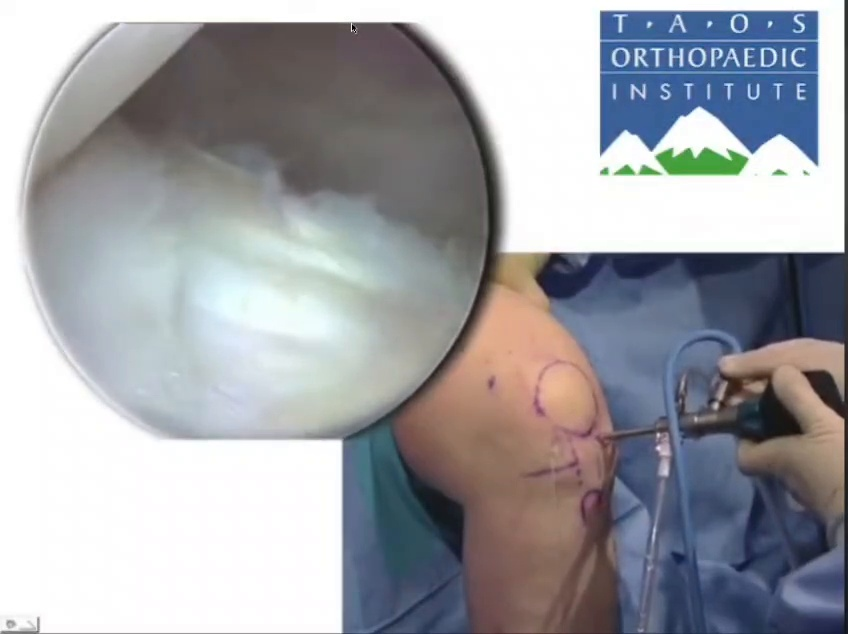arthroscope: (509, 272, 848, 622), (33, 0, 394, 182)
probe: (424, 241, 492, 388), (755, 516, 848, 623)
